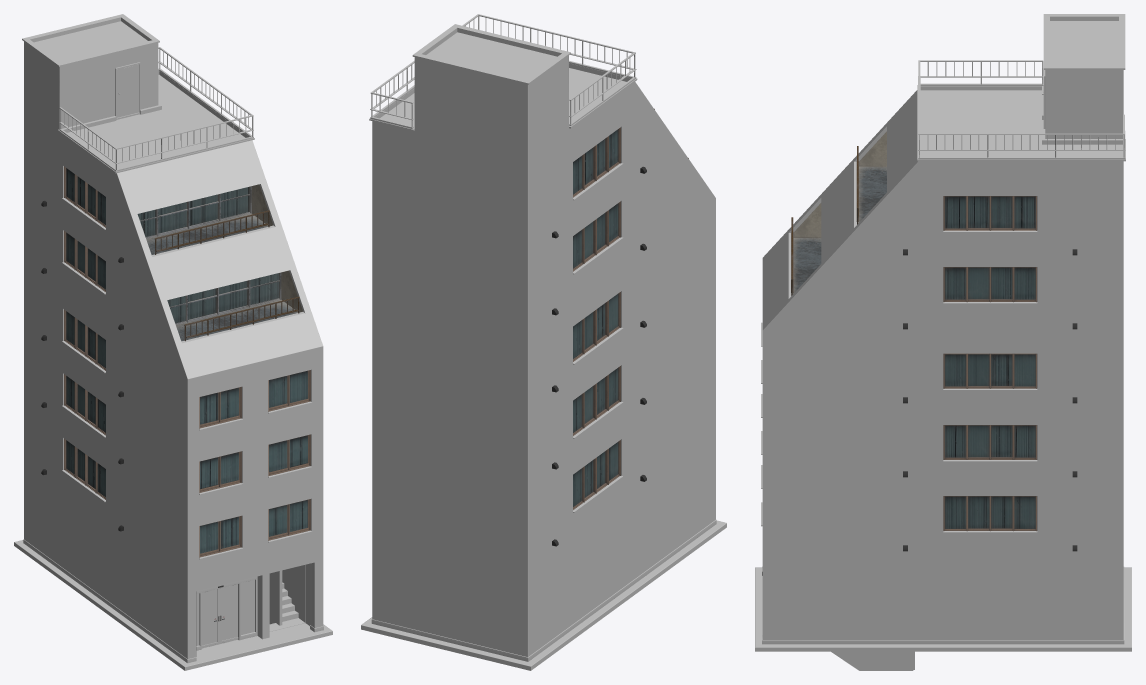
Rendered from BldA.fbx.
3 views of the same model, side by side, from view 1: azimuth 30°, elevation 25°; view 2: azimuth 150°, elevation 25°; view 3: azimuth 270°, elevation 25° (orthographic). The views are drawn at different scales.
Parts seen in each view (by area): view 1: BldA_LOD0; view 2: BldA_LOD0; view 3: BldA_LOD0.
Boxes of the visible parts, bbox=[...] form: BldA_LOD0: bbox=[14, 14, 332, 670]; BldA_LOD0: bbox=[361, 14, 726, 670]; BldA_LOD0: bbox=[755, 14, 1131, 670].
Bounding box in the file's own units: 600 × 2103 × 1200.
